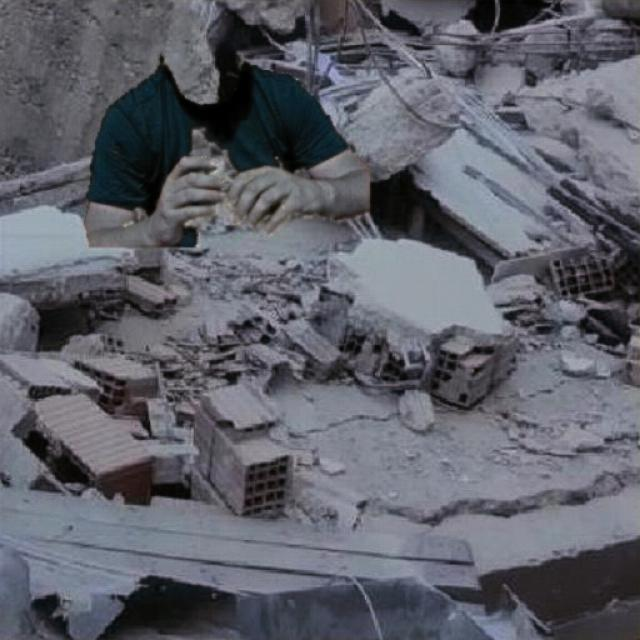Person in Rubble: (84, 54, 368, 246)
